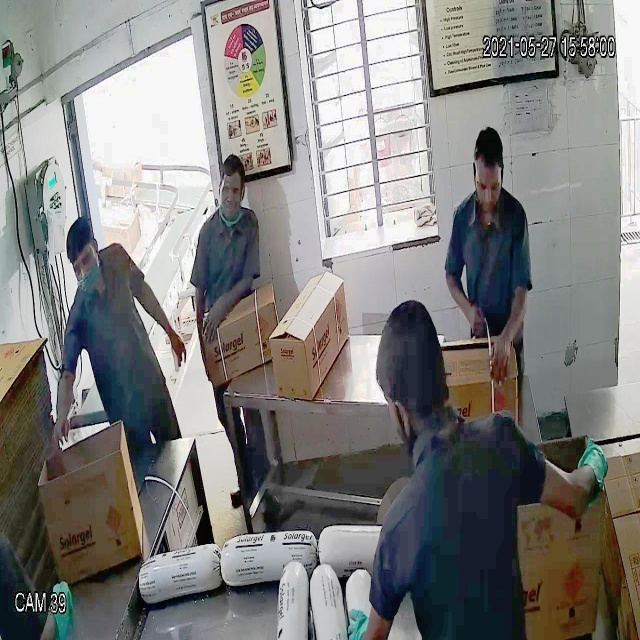Sin_gafas: (63, 244, 106, 284), (470, 166, 507, 199)
